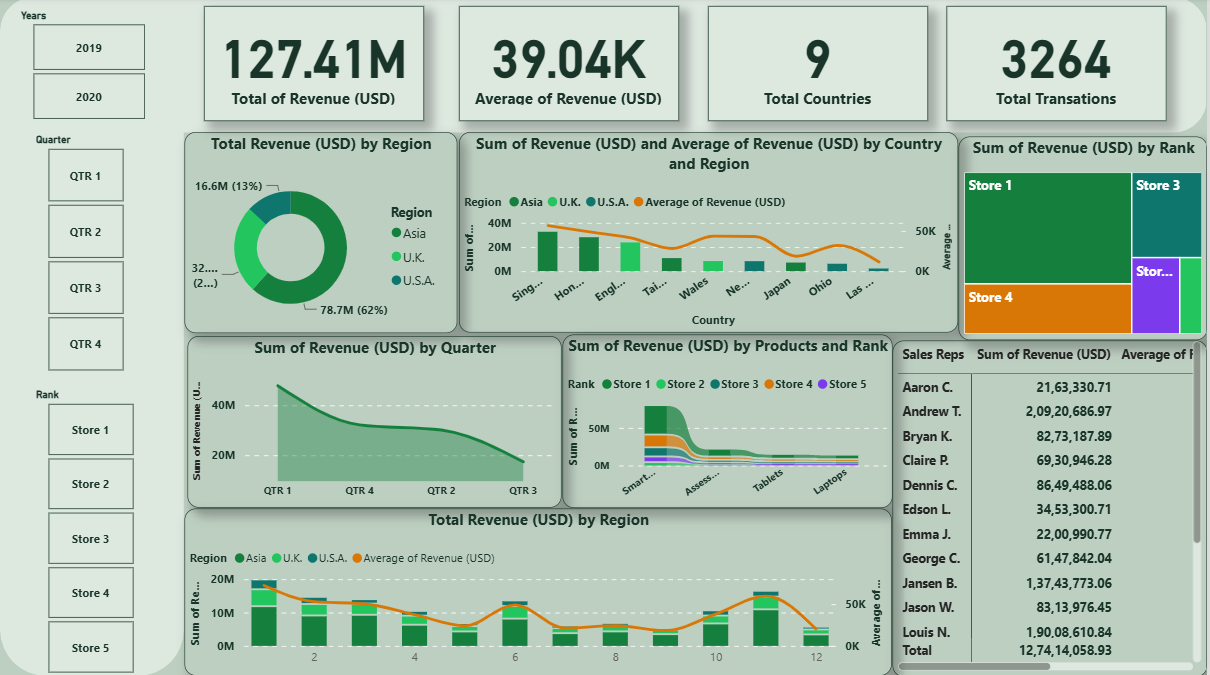

Layout of this report page (visuals, bound fields, positions):
{"tool":"powerbi","page":{"name":"Page 1","canvas":[1280,720],"ordinal":0},"visuals":[{"type":"shape","box":[0,0,195,720],"z":0},{"type":"shape","box":[0,0,1280,144],"z":1000},{"type":"card","fields":{"Values":["Sum(Sheet1.Revenue (USD))"]},"box":[216,9,233,122],"z":2000},{"type":"card","fields":{"Values":["Avg(Sheet1.Revenue (USD))"]},"box":[486,9,233,122],"z":3000},{"type":"card","fields":{"Values":["Count(Sheet1.Country)"]},"box":[750,9,233,122],"z":4000},{"type":"card","fields":{"Values":["CountNonNull(Sheet1.First Name)"]},"box":[1004,9,233,122],"z":5000},{"type":"slicer","fields":{"Values":["Sheet1.Years"]},"box":[15,11.7,158.3,121.7],"z":6000},{"type":"slicer","fields":{"Values":["Sheet1.Quarter"]},"box":[30.6,143.5,119.4,256.5],"z":7000},{"type":"slicer","fields":{"Values":["Sheet1.Rank"]},"box":[30,413.3,130,306.7],"z":8000},{"type":"donutChart","title":"Total Revenue (USD) by Region","fields":{"Category":["Sheet1.Region"],"Y":["Sum(Sheet1.Revenue (USD))"]},"box":[195,143.3,289,213.3],"z":9000},{"type":"lineStackedColumnComboChart","title":"Sum of Revenue (USD) and Average of Revenue (USD) by Country and Region","fields":{"Category":["Sheet1.Country"],"Series":["Sheet1.Region"],"Y":["Sum(Sheet1.Revenue (USD))"],"Y2":["Avg(Sheet1.Revenue (USD))"]},"box":[487.1,143.5,529,212.9],"z":10000},{"type":"treemap","title":"Sum of Revenue (USD) by Rank","fields":{"Group":["Sheet1.Rank"],"Values":["Sum(Sheet1.Revenue (USD))"]},"box":[1015.7,147.1,264.3,215.7],"z":11000},{"type":"areaChart","title":"Sum of Revenue (USD) by Quarter","fields":{"Category":["Sheet1.Quarter"],"Y":["Sum(Sheet1.Revenue (USD))"]},"box":[198.4,359.7,396.8,182.3],"z":12000},{"type":"lineStackedColumnComboChart","title":"Total Revenue (USD) by Region","fields":{"Category":["Sheet1.Month"],"Series":["Sheet1.Region"],"Y":["Sum(Sheet1.Revenue (USD))"],"Y2":["Avg(Sheet1.Revenue (USD))"]},"box":[195,541.7,750,177],"z":13000},{"type":"ribbonChart","title":"Sum of Revenue (USD) by Products and Rank","fields":{"Category":["Sheet1.Products"],"Series":["Sheet1.Rank"],"Y":["Sum(Sheet1.Revenue (USD))"]},"box":[595.7,358.6,350,184.3],"z":14000},{"type":"pivotTable","title":"Total Revenue (USD) by Region","fields":{"Rows":["Sheet1.Sales Reps"],"Values":["Sum(Sheet1.Revenue (USD))","Avg(Sheet1.Revenue (USD))","CountNonNull(Sheet1.First Name)"]},"box":[946,364,333.9,356.5],"z":15000}]}

Visuals, with their boxes in screenshot pixels (x1, y1, x2, y2), scaled from the page's 1280x720 canvas onto the 1210x675 screenshot:
shape: [x1=0, y1=0, x2=184, y2=674]
shape: [x1=0, y1=0, x2=1209, y2=135]
card - Sum(Sheet1.Revenue (USD)): [x1=204, y1=8, x2=424, y2=123]
card - Avg(Sheet1.Revenue (USD)): [x1=459, y1=8, x2=680, y2=123]
card - Count(Sheet1.Country): [x1=709, y1=8, x2=929, y2=123]
card - CountNonNull(Sheet1.First Name): [x1=949, y1=8, x2=1169, y2=123]
slicer - Sheet1.Years: [x1=14, y1=11, x2=164, y2=125]
slicer - Sheet1.Quarter: [x1=29, y1=135, x2=142, y2=375]
slicer - Sheet1.Rank: [x1=28, y1=387, x2=151, y2=674]
"Total Revenue (USD) by Region" donutChart: [x1=184, y1=134, x2=458, y2=334]
"Sum of Revenue (USD) and Average of Revenue (USD) by Country and Region" lineStackedColumnComboChart: [x1=460, y1=135, x2=961, y2=334]
"Sum of Revenue (USD) by Rank" treemap: [x1=960, y1=138, x2=1209, y2=340]
"Sum of Revenue (USD) by Quarter" areaChart: [x1=188, y1=337, x2=563, y2=508]
"Total Revenue (USD) by Region" lineStackedColumnComboChart: [x1=184, y1=508, x2=893, y2=674]
"Sum of Revenue (USD) by Products and Rank" ribbonChart: [x1=563, y1=336, x2=894, y2=509]
"Total Revenue (USD) by Region" pivotTable: [x1=894, y1=341, x2=1209, y2=674]
